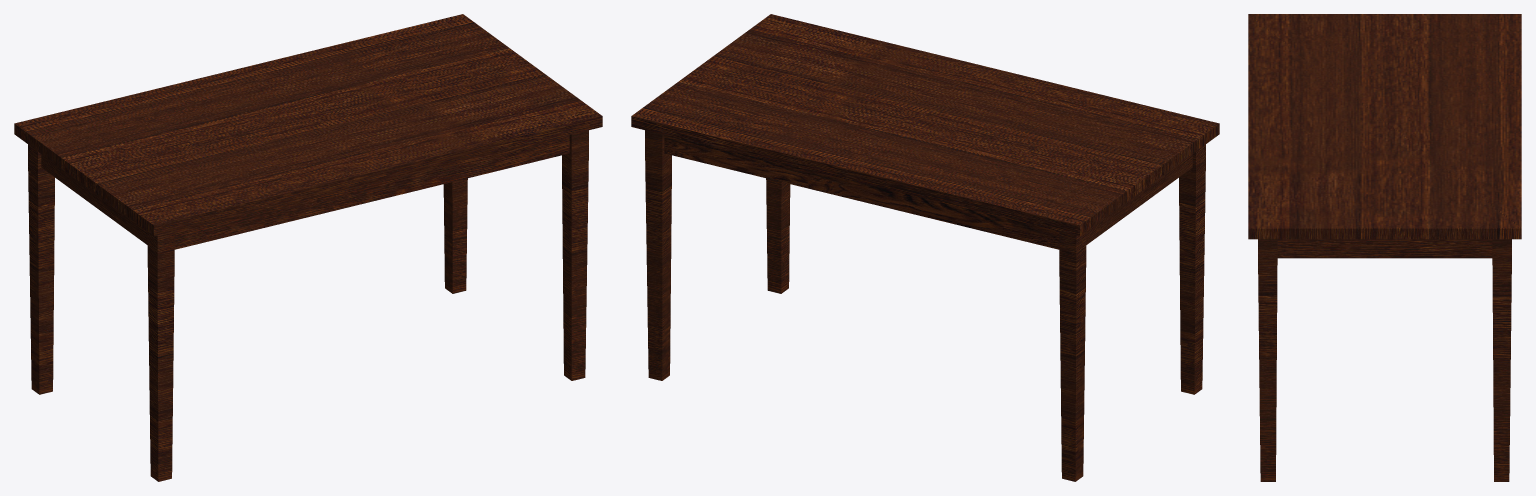
Rendered from Mesa-Comedor.fbx.
3 renders of one model, left to right at view 1: azimuth 30°, elevation 25°; view 2: azimuth 150°, elevation 25°; view 3: azimuth 270°, elevation 25°, orthographic.
Parts seen in each view (by area): view 1: old_wooden_table; view 2: old_wooden_table; view 3: old_wooden_table.
Boxes of the visible parts, left/top/right/bottom form: old_wooden_table: left=14, top=14, right=602, bottom=481; old_wooden_table: left=631, top=14, right=1219, bottom=481; old_wooden_table: left=1248, top=14, right=1521, bottom=481.
Size of the model in its own units: 130 by 73 by 70.
